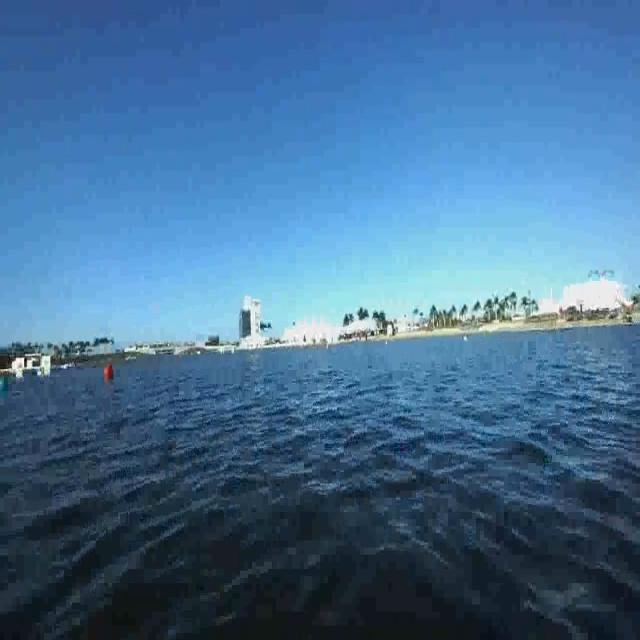green-buoy: (0, 373, 9, 393)
red-buoy: (103, 360, 114, 379)
